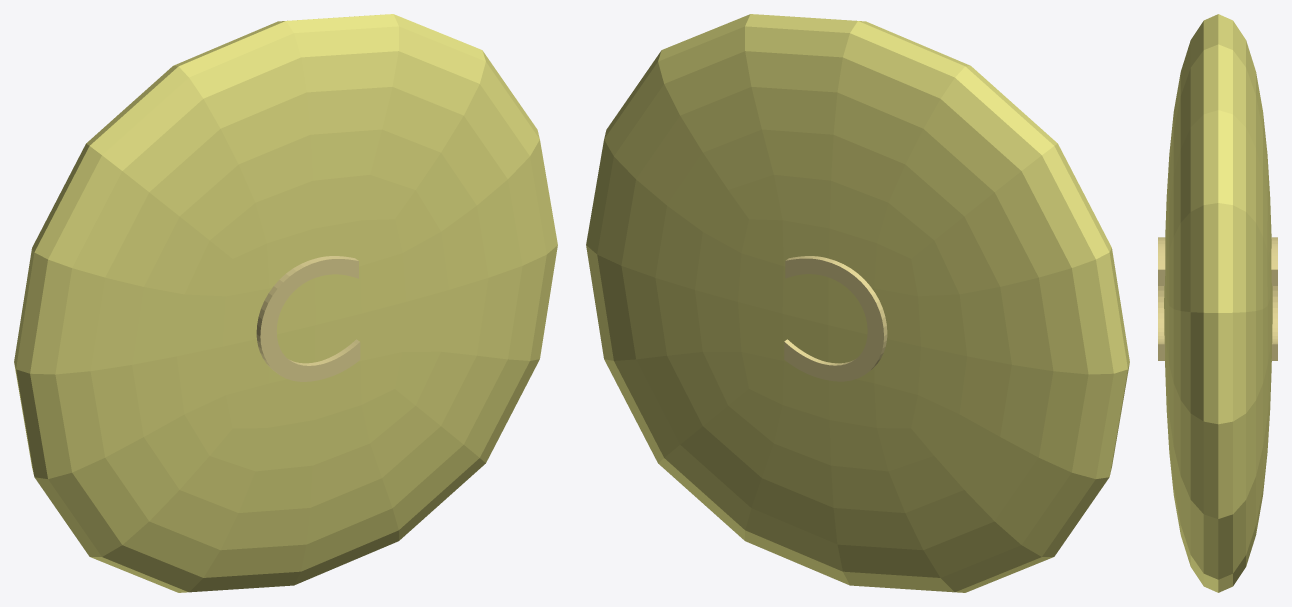
Rendered from Coin.fbx.
The picture shows the model from 3 angles, left to right: view 1: azimuth 30°, elevation 25°; view 2: azimuth 150°, elevation 25°; view 3: azimuth 270°, elevation 25°; orthographic projection. The views are drawn at different scales.
Visible parts, largest first — view 1: Cube, C; view 2: Cube, C; view 3: Cube, C.
Part boxes in pixels (<box>): Cube: <box>14,14,557,592</box>; C: <box>256,256,360,381</box>; Cube: <box>586,14,1129,592</box>; C: <box>784,256,887,381</box>; Cube: <box>1164,14,1272,592</box>; C: <box>1158,237,1277,360</box>.
Size of the model in its own units: 178 by 178 by 37.25.
